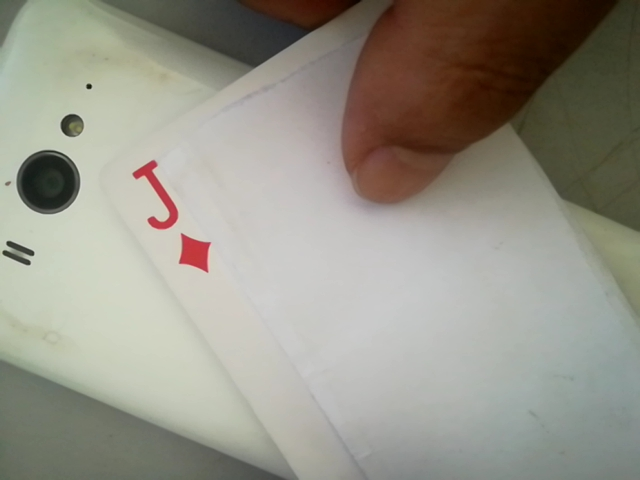fk j: (122, 155, 217, 280)
